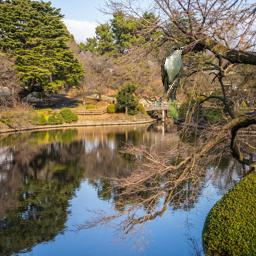Cuckoo: (161, 42, 187, 120)
